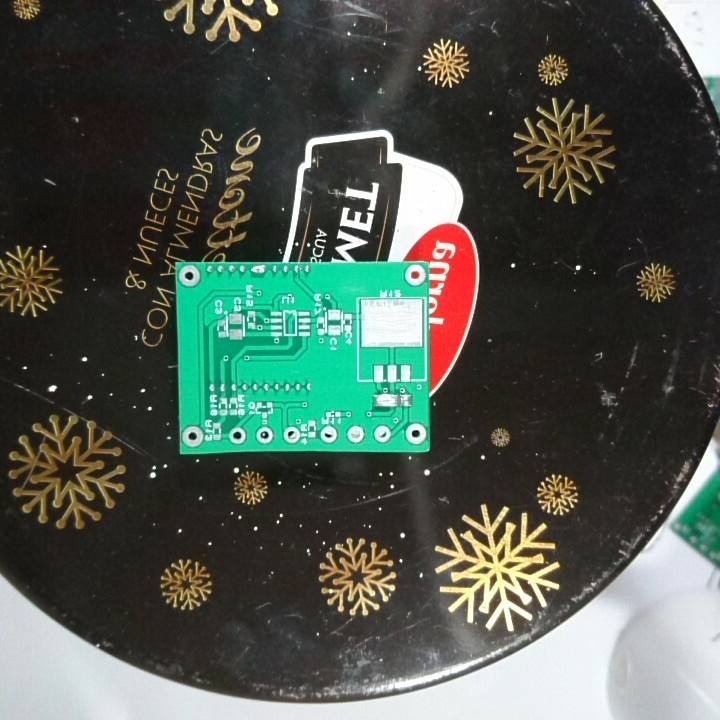F: (179, 424, 205, 449), (404, 420, 428, 447), (403, 263, 428, 288), (177, 263, 202, 288), (345, 423, 366, 446), (372, 422, 392, 446), (227, 425, 248, 447), (319, 424, 340, 446), (254, 425, 276, 445), (282, 424, 302, 445)
P: (370, 392, 398, 411), (248, 263, 270, 278)
